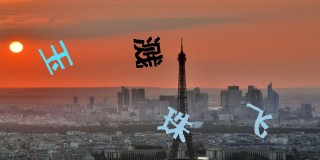溅: (133, 36, 163, 69)
玉: (37, 39, 74, 75)
珠: (157, 106, 192, 143)
飞: (245, 102, 272, 138)
